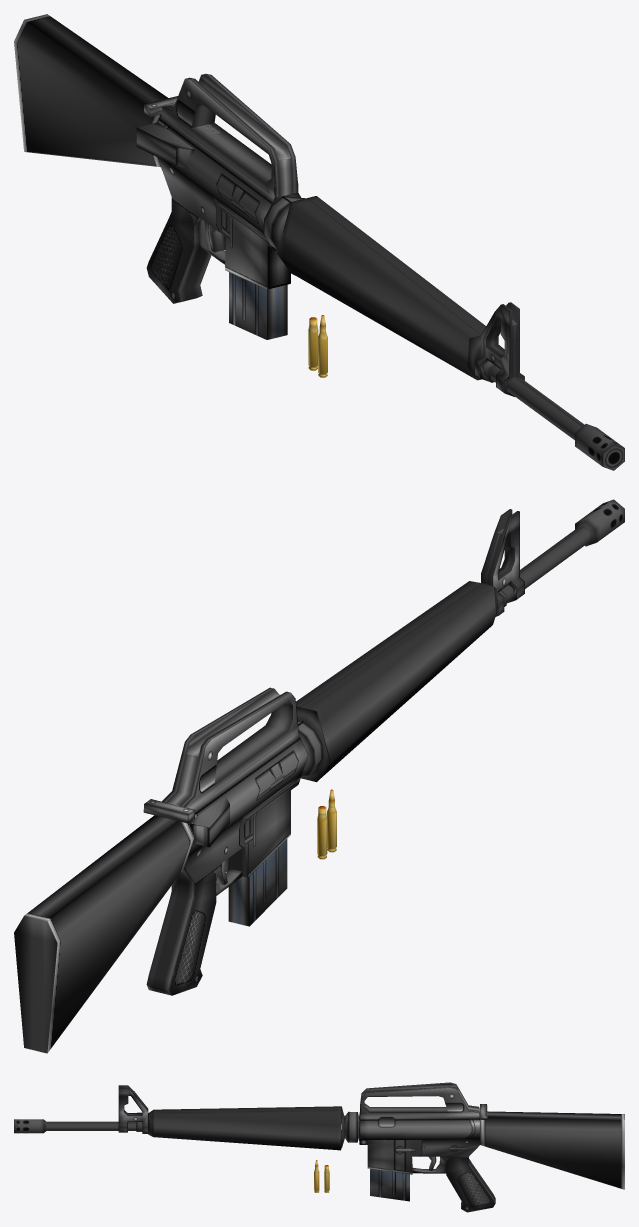
3 renders of one model, top to bottom at view 1: azimuth 30°, elevation 25°; view 2: azimuth 150°, elevation 25°; view 3: azimuth 270°, elevation 25°, orthographic. The views are drawn at different scales.
Parts seen in each view (by area): view 1: Main Reciver, Barrel.002, Mag.001, Front Sight, Foward Assist; view 2: Main Reciver, Barrel.002, Mag.001, Front Sight, Foward Assist, Charging Handle.001; view 3: Main Reciver, Barrel.002, Mag.001, Front Sight.
Boxes of the visible parts, left/top/right/bottom form: Main Reciver: left=14, top=14, right=486, bottom=380; Barrel.002: left=483, top=361, right=624, bottom=470; Mag.001: left=229, top=272, right=287, bottom=339; Front Sight: left=475, top=302, right=524, bottom=396; Foward Assist: left=136, top=122, right=194, bottom=168; Main Reciver: left=14, top=581, right=498, bottom=1053; Barrel.002: left=498, top=499, right=624, bottom=606; Mag.001: left=228, top=839, right=287, bottom=926; Front Sight: left=481, top=509, right=524, bottom=616; Foward Assist: left=188, top=796, right=229, bottom=847; Charging Handle.001: left=143, top=777, right=216, bottom=823; Main Reciver: left=148, top=1082, right=624, bottom=1212; Barrel.002: left=14, top=1119, right=142, bottom=1133; Mag.001: left=370, top=1169, right=409, bottom=1201; Front Sight: left=118, top=1085, right=148, bottom=1133.
Bounding box in the file's own units: 0.0536 × 0.8514 × 0.1913.
